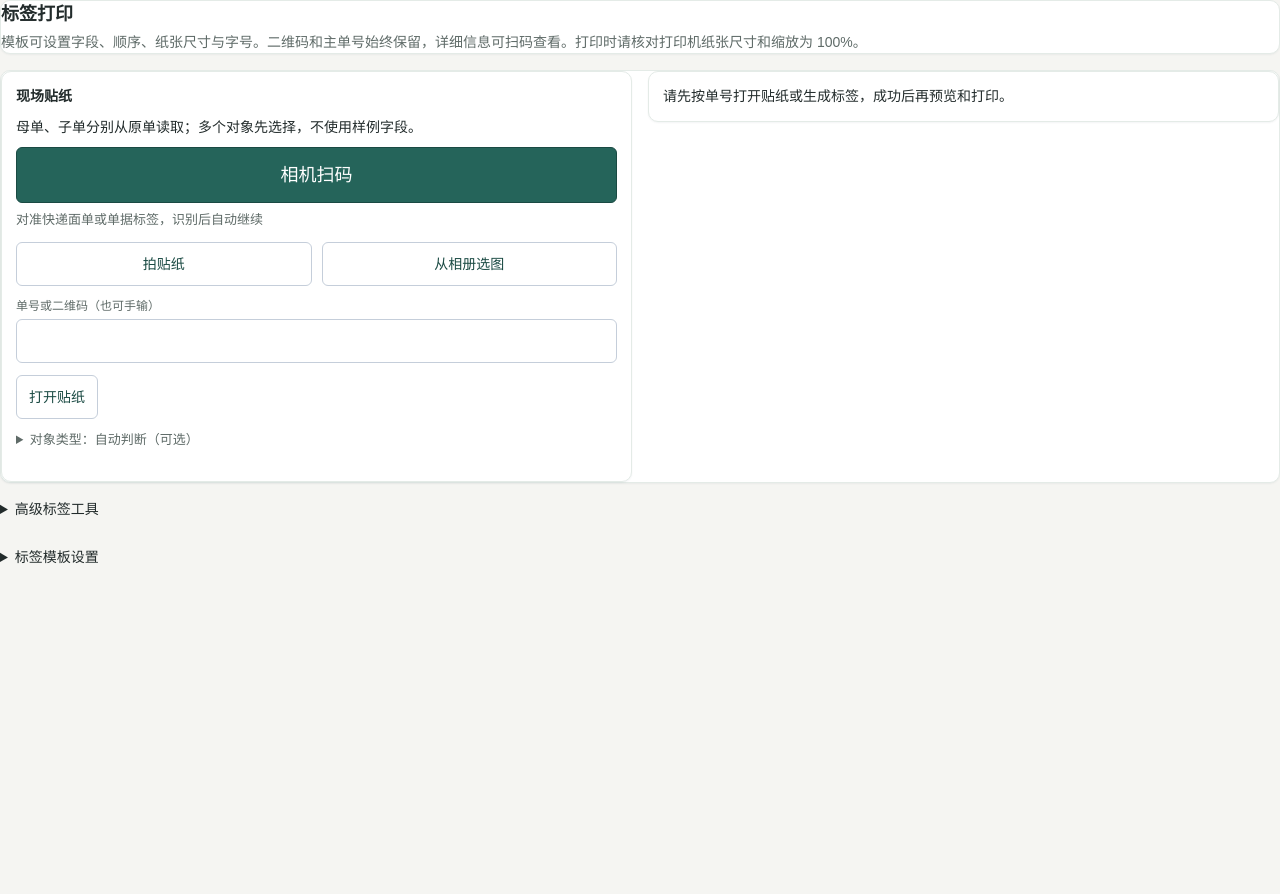
Scenario: LabelWorkspace › 单号不明确时不猜测母单标签
In the field named "现场贴纸单号": (316, 341) [16,319,617,363], type "SF1048329001"
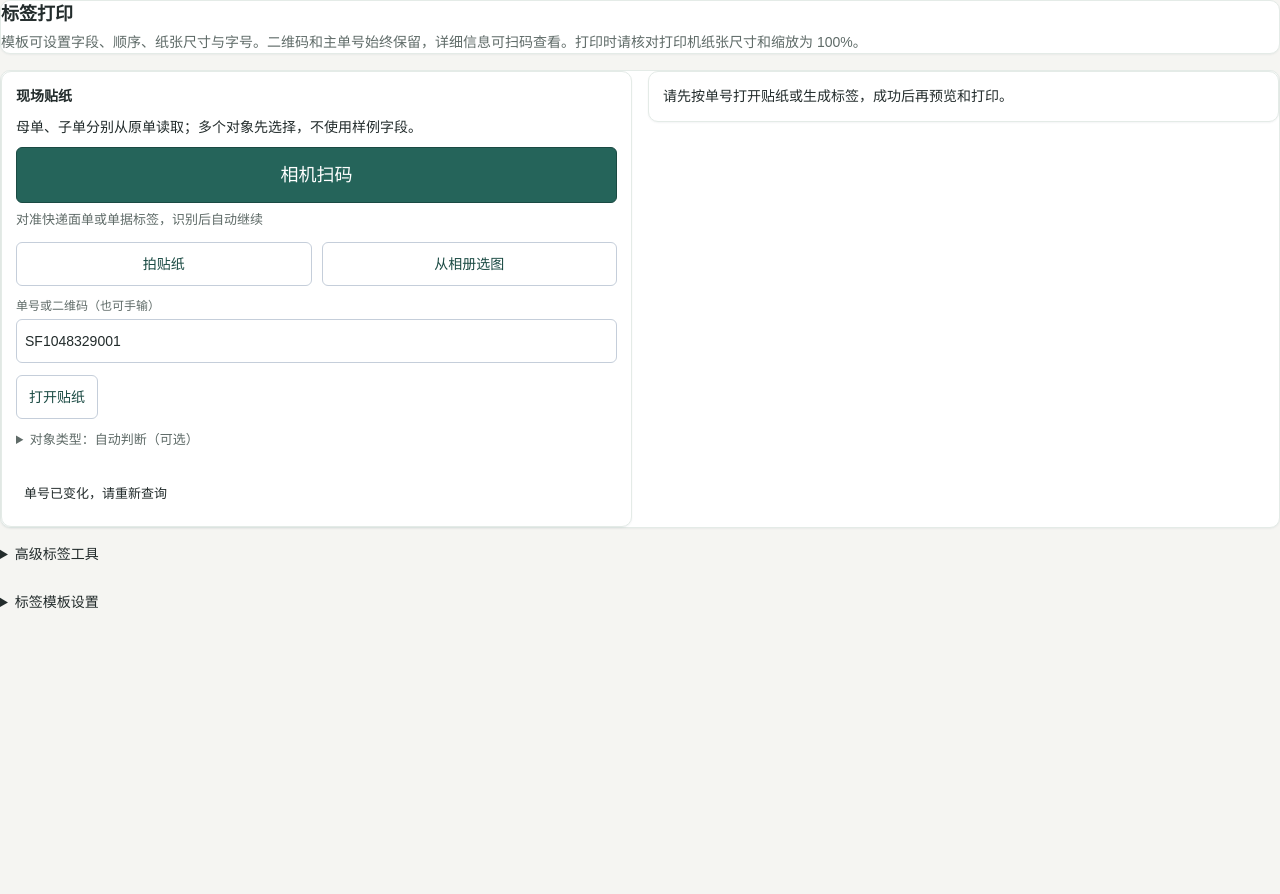
Click the button with aria-label "打开现场贴纸": (57, 397) [16,375,98,419]
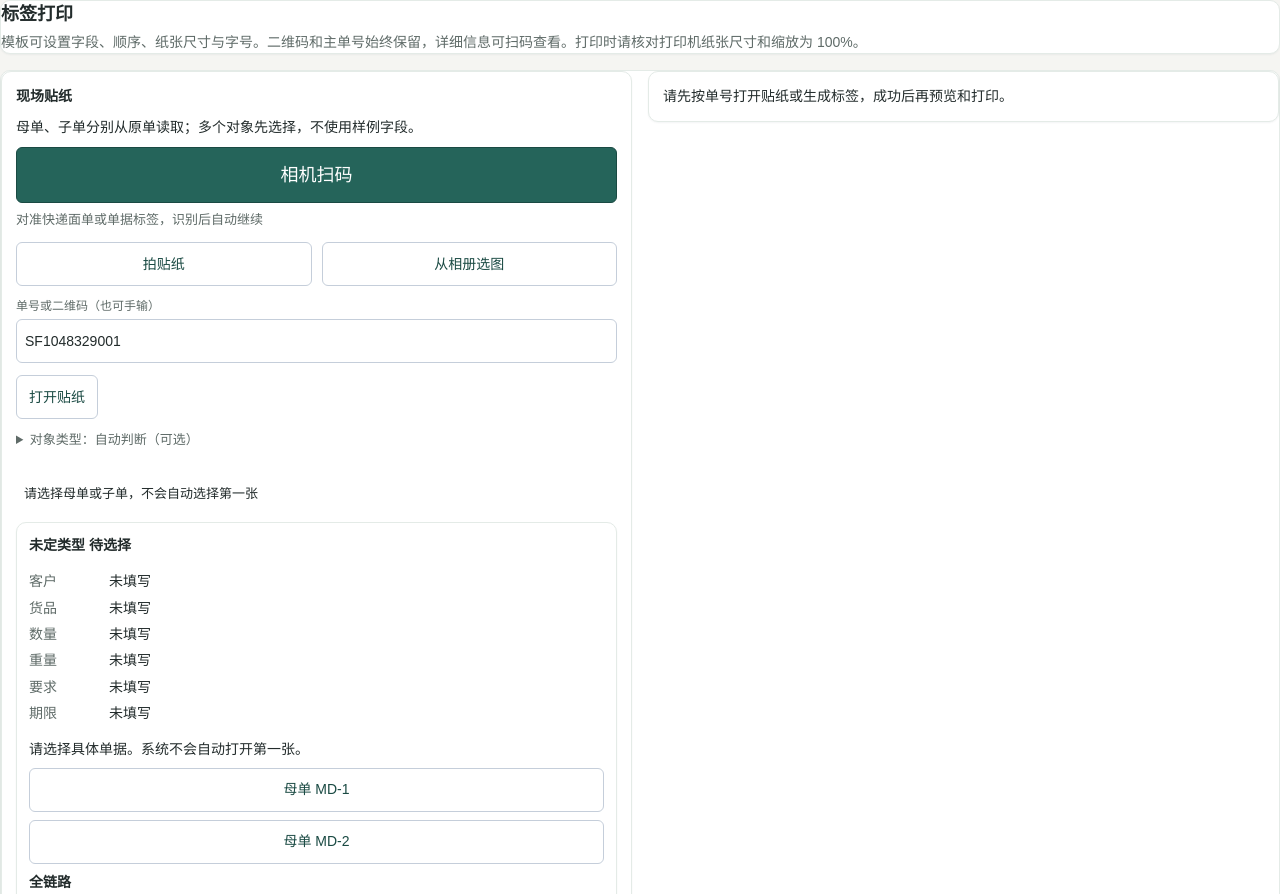
Now the text "请选择母单或子单" is shown, box [24,486,258,501]
